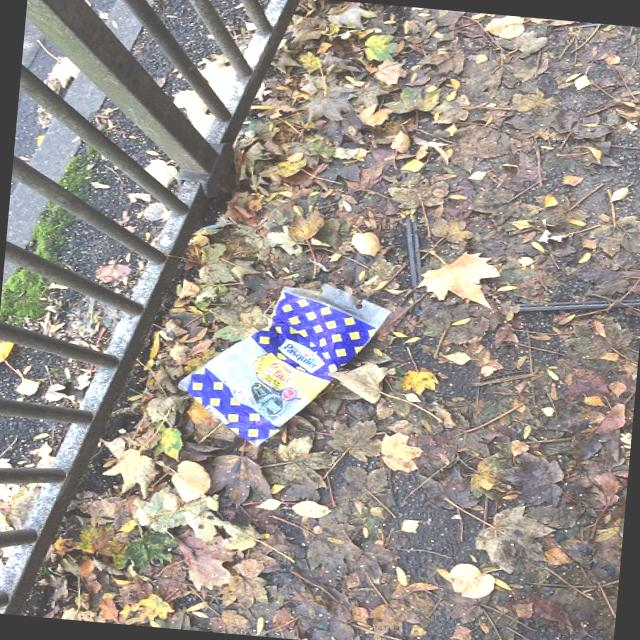Trash: (172, 273, 396, 457)
